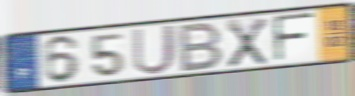5: (89, 30, 128, 78)
6: (42, 34, 82, 86)
B: (178, 20, 226, 74)
F: (271, 11, 317, 64)
U: (130, 23, 178, 77)
X: (225, 16, 269, 69)
